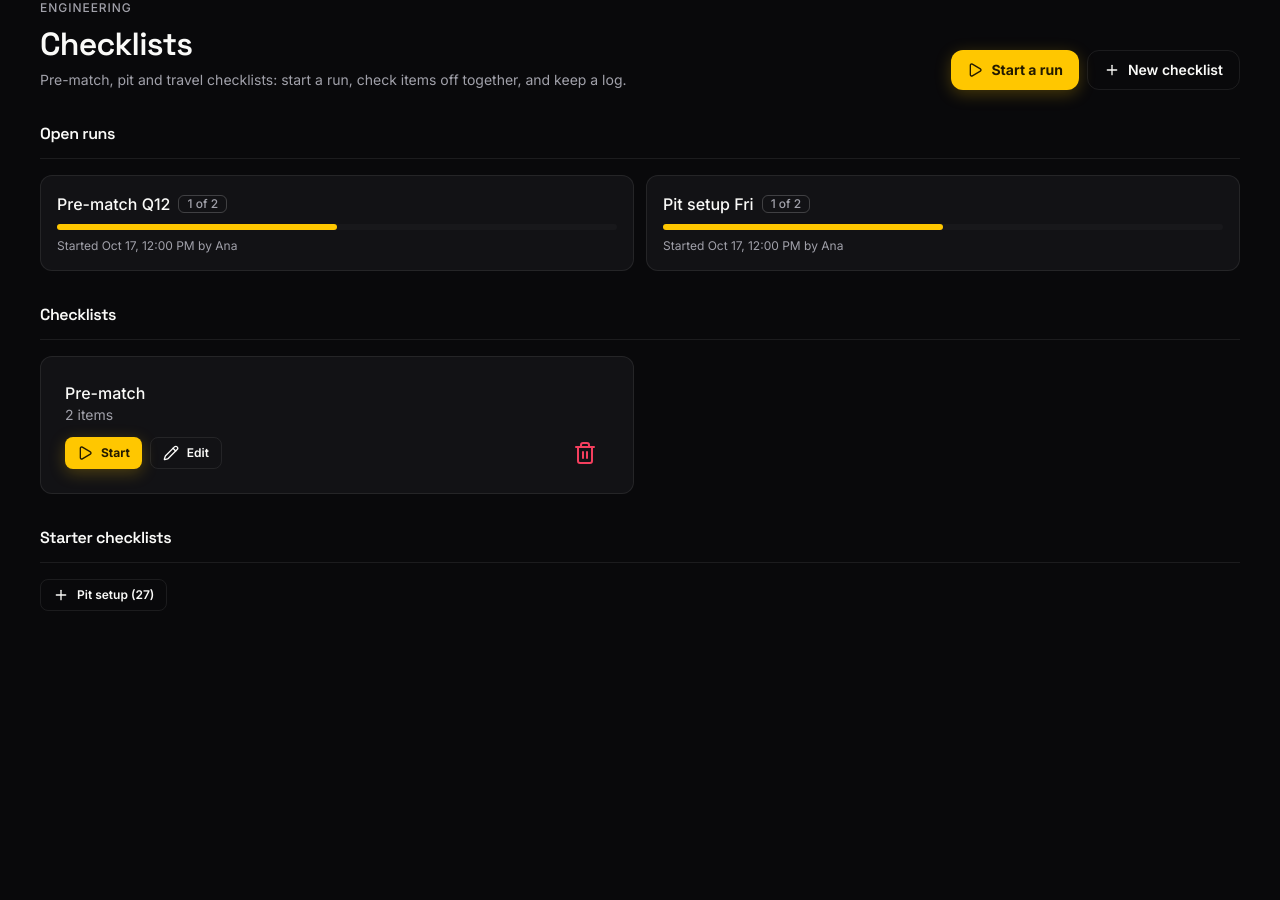
Test: Checklists page › a reply for a run that is no longer open on screen is ignored
Click the text "Pre-match Q12" at [114, 204], box [57, 192, 170, 216]
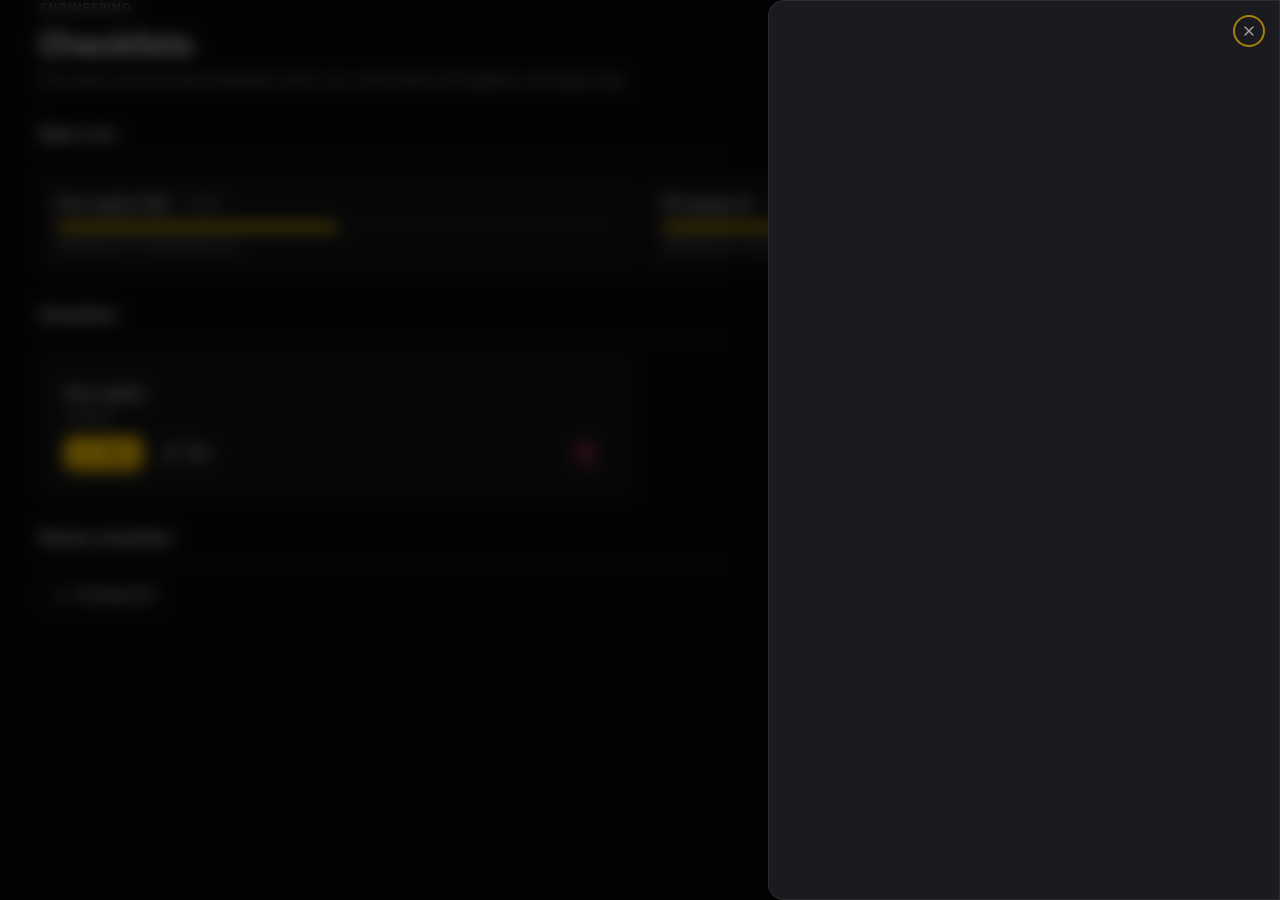
Press Escape in the button, box [1235, 17, 1263, 45]
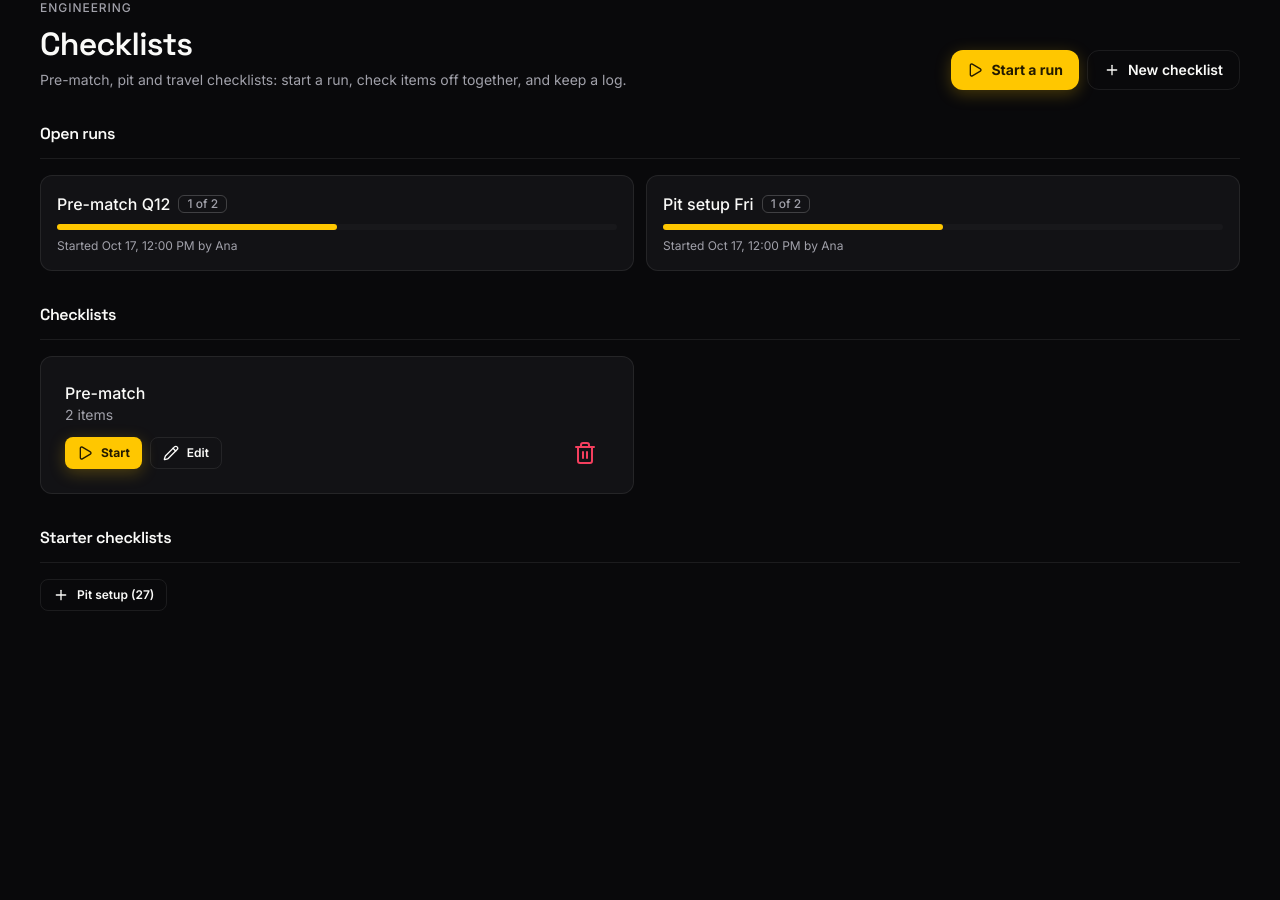
Expected: the dialog is gone
Click the text "Pit setup Fri" at [708, 204], box [663, 192, 754, 216]
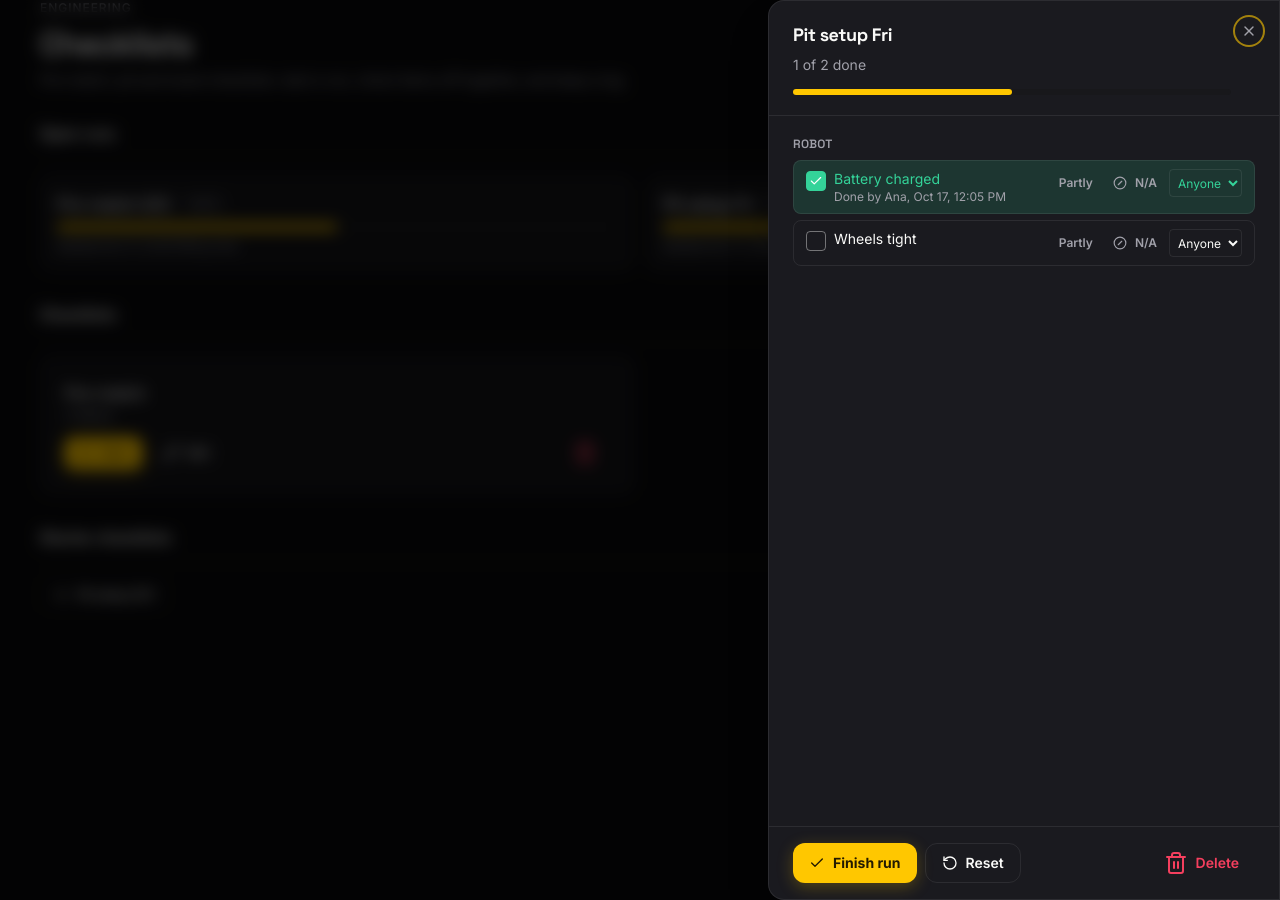
Expected: the heading "Pit setup Fri" is shown, [793, 23, 892, 46]
